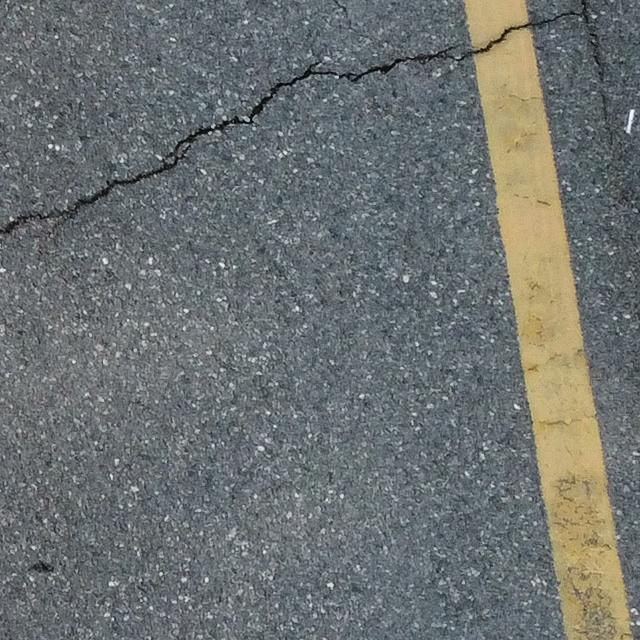TransverseCrack: (1, 1, 600, 234)
